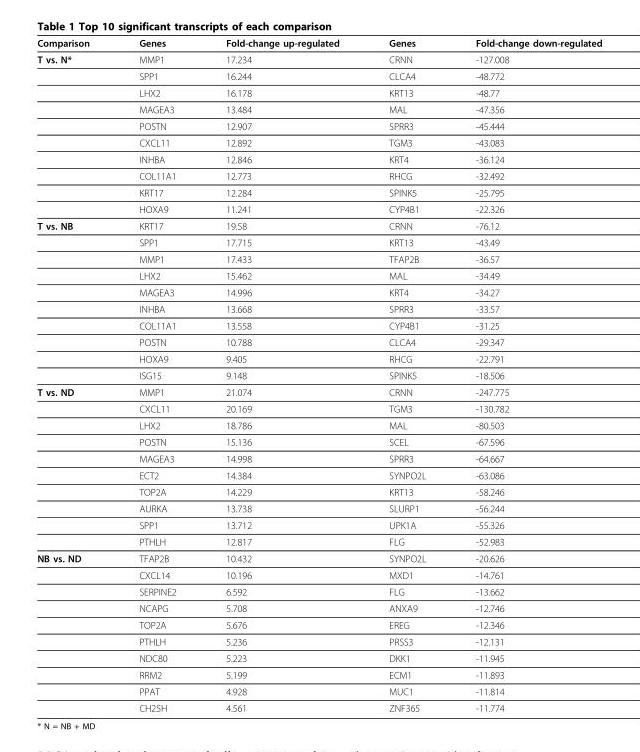table: (36, 36, 601, 713)
table column: (200, 36, 363, 713), (450, 36, 601, 713), (113, 36, 200, 713), (363, 36, 450, 713), (36, 36, 113, 713)
table column header: (36, 36, 601, 50)
table row: (36, 50, 601, 67), (36, 67, 601, 84), (36, 100, 601, 117), (36, 117, 601, 134), (36, 150, 601, 167), (36, 183, 601, 200), (36, 200, 601, 217), (36, 233, 601, 250), (36, 250, 601, 267), (36, 283, 601, 300), (36, 300, 601, 317), (36, 333, 601, 350), (36, 366, 601, 383), (36, 383, 601, 400), (36, 416, 601, 433), (36, 433, 601, 450), (36, 466, 601, 483), (36, 499, 601, 516), (36, 516, 601, 533), (36, 549, 601, 566), (36, 566, 601, 583), (36, 599, 601, 616), (36, 632, 601, 649), (36, 649, 601, 666), (36, 682, 601, 699), (36, 84, 601, 100), (36, 134, 601, 150), (36, 167, 601, 183), (36, 217, 601, 233), (36, 267, 601, 283), (36, 317, 601, 333), (36, 350, 601, 366), (36, 400, 601, 416), (36, 450, 601, 466), (36, 483, 601, 499), (36, 533, 601, 549), (36, 583, 601, 599), (36, 616, 601, 632), (36, 666, 601, 682), (36, 36, 601, 50), (36, 699, 601, 713)
table spanning cell: (36, 50, 113, 217), (36, 217, 113, 383), (36, 383, 113, 549), (36, 549, 113, 713)
